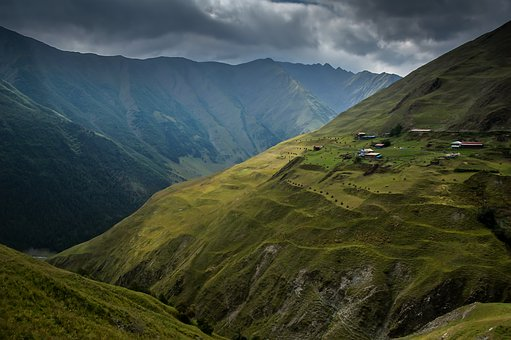mountain: (22, 53, 507, 339)
sky: (1, 1, 509, 61)
